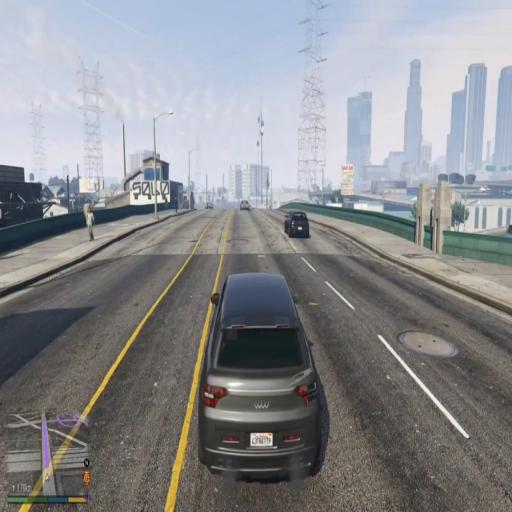Cars: (201, 278, 327, 482), (278, 198, 324, 252)
People: (82, 198, 98, 243), (172, 196, 180, 216), (164, 196, 170, 213)
